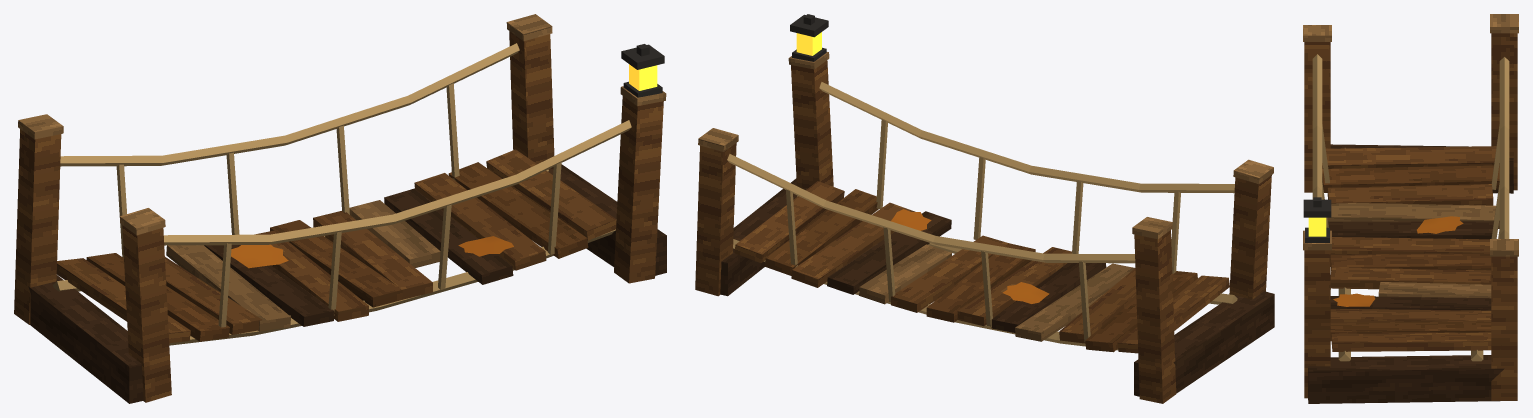
The model's file is bridge.glb.
3 renders of one model, left to right at view 1: azimuth 30°, elevation 25°; view 2: azimuth 150°, elevation 25°; view 3: azimuth 270°, elevation 25°, orthographic. The views are drawn at different scales.
Visible parts, largest first — view 1: bridge, glow_lantern; view 2: bridge; view 3: bridge, glow_lantern.
Boxes of the visible parts, x1,y1,x2,y2 form: bridge: [14, 14, 666, 403]; glow_lantern: [629, 64, 657, 90]; bridge: [695, 14, 1274, 403]; bridge: [1303, 14, 1518, 403]; glow_lantern: [1308, 217, 1326, 236].
Bounding box in the file's own units: 3.91 × 1.58 × 1.57.
8 materials, 4 textured.
